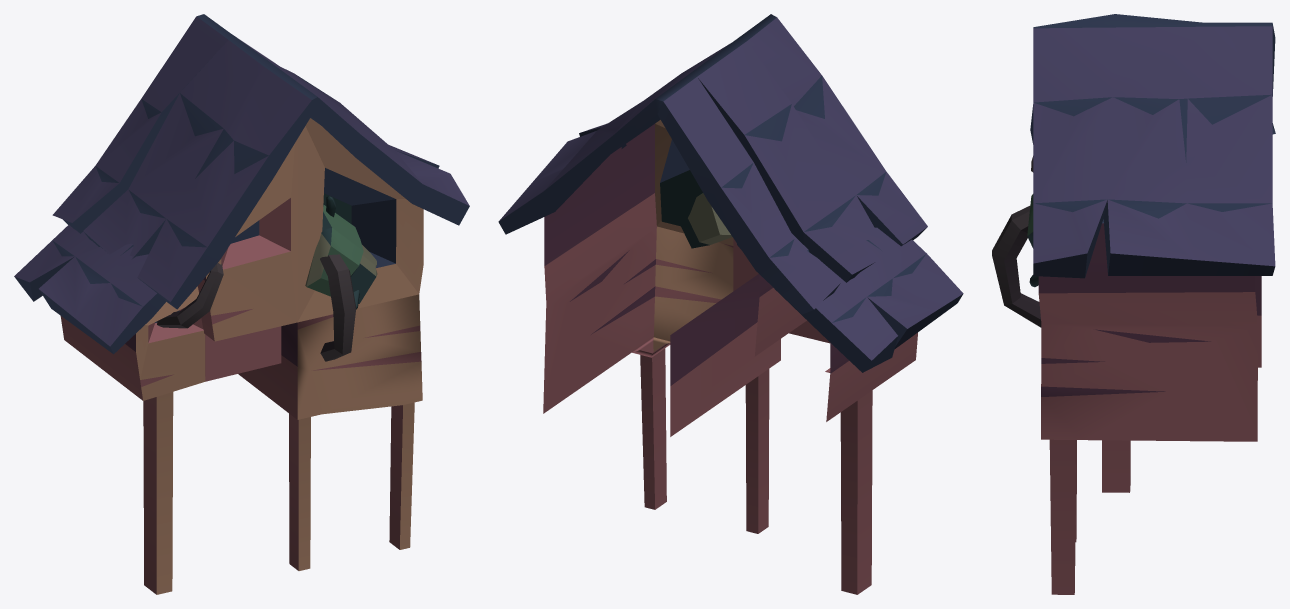
The model's file is дек6.fbx.
3 views of the same model, side by side, from view 1: azimuth 30°, elevation 25°; view 2: azimuth 150°, elevation 25°; view 3: azimuth 270°, elevation 25° (orthographic). The views are drawn at different scales.
Visible parts, largest first — view 1: pCylinder38; view 2: pCylinder38; view 3: pCylinder38.
Boxes of the visible parts, bbox=[...] form: pCylinder38: bbox=[14, 14, 469, 594]; pCylinder38: bbox=[498, 14, 963, 594]; pCylinder38: bbox=[992, 14, 1275, 594].
Size of the model in its own units: 5.68 by 7.42 by 3.6.
